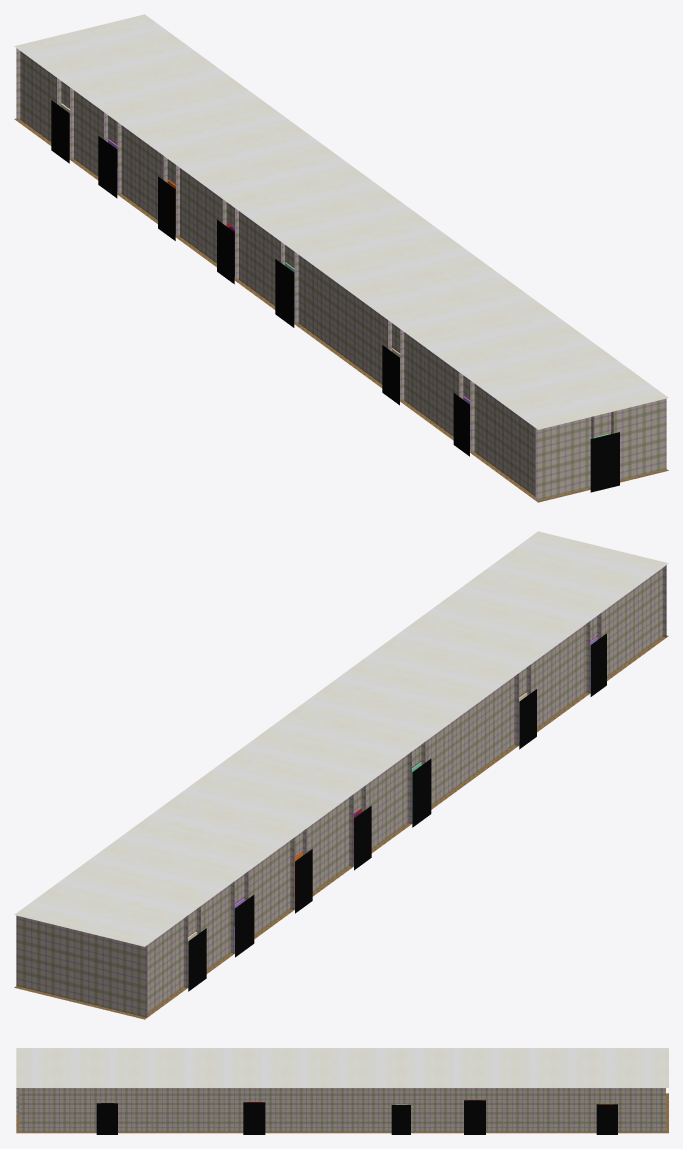
The model's file is rdwe_door_hall.glb.
3 renders of one model, top to bottom at view 1: azimuth 30°, elevation 25°; view 2: azimuth 150°, elevation 25°; view 3: azimuth 270°, elevation 25°, orthographic. The views are drawn at different scales.
Visible parts, largest first — view 1: Ceil_Plaster, Wall_Plaid, Void, Floor_Diamond; view 2: Ceil_Plaster, Wall_Plaid, Void, Floor_Diamond; view 3: Ceil_Plaster, Wall_Plaid, Void, Floor_Diamond.
Boxes of the visible parts, left/top/right/bottom form: Ceil_Plaster: left=14, top=14, right=668, bottom=429; Wall_Plaid: left=16, top=48, right=666, bottom=500; Void: left=51, top=100, right=619, bottom=492; Floor_Diamond: left=14, top=108, right=668, bottom=502; Ceil_Plaster: left=14, top=531, right=668, bottom=946; Wall_Plaid: left=16, top=565, right=666, bottom=1017; Void: left=188, top=633, right=606, bottom=991; Floor_Diamond: left=14, top=635, right=668, bottom=1019; Ceil_Plaster: left=16, top=1048, right=668, bottom=1087; Wall_Plaid: left=16, top=1088, right=665, bottom=1131; Void: left=96, top=1100, right=617, bottom=1134; Floor_Diamond: left=16, top=1093, right=668, bottom=1133.
Size of the model in its own units: 6.7 by 3.45 by 44.55.
Materials: 28 (18 with a texture image).
